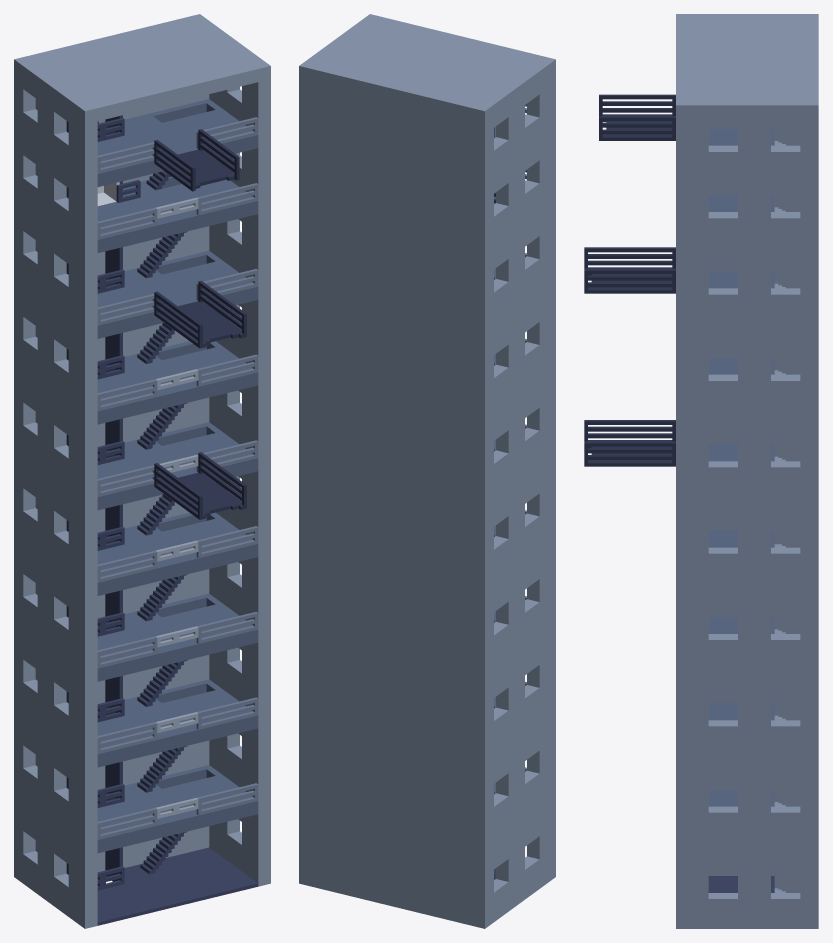
The model's file is launcher.glb.
3 renders of one model, left to right at view 1: azimuth 30°, elevation 25°; view 2: azimuth 150°, elevation 25°; view 3: azimuth 270°, elevation 25°, orthographic.
Visible parts, largest first — view 1: ObjObject.002; view 2: ObjObject.002; view 3: ObjObject.002.
Boxes of the visible parts, left/top/right/bottom form: ObjObject.002: left=14, top=14, right=270, bottom=928; ObjObject.002: left=299, top=14, right=555, bottom=928; ObjObject.002: left=584, top=14, right=818, bottom=928.
Bounding box in the file's own units: 5.9 × 24.8 × 6.4.
Materials: 1 (1 with a texture image).
